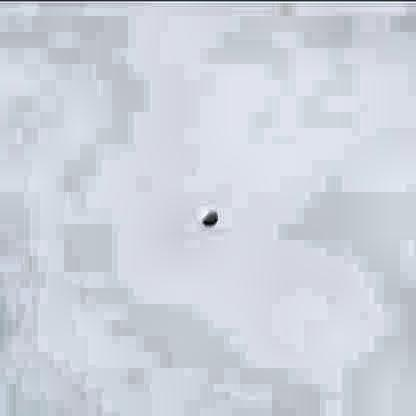golfball: (198, 205, 216, 224)
